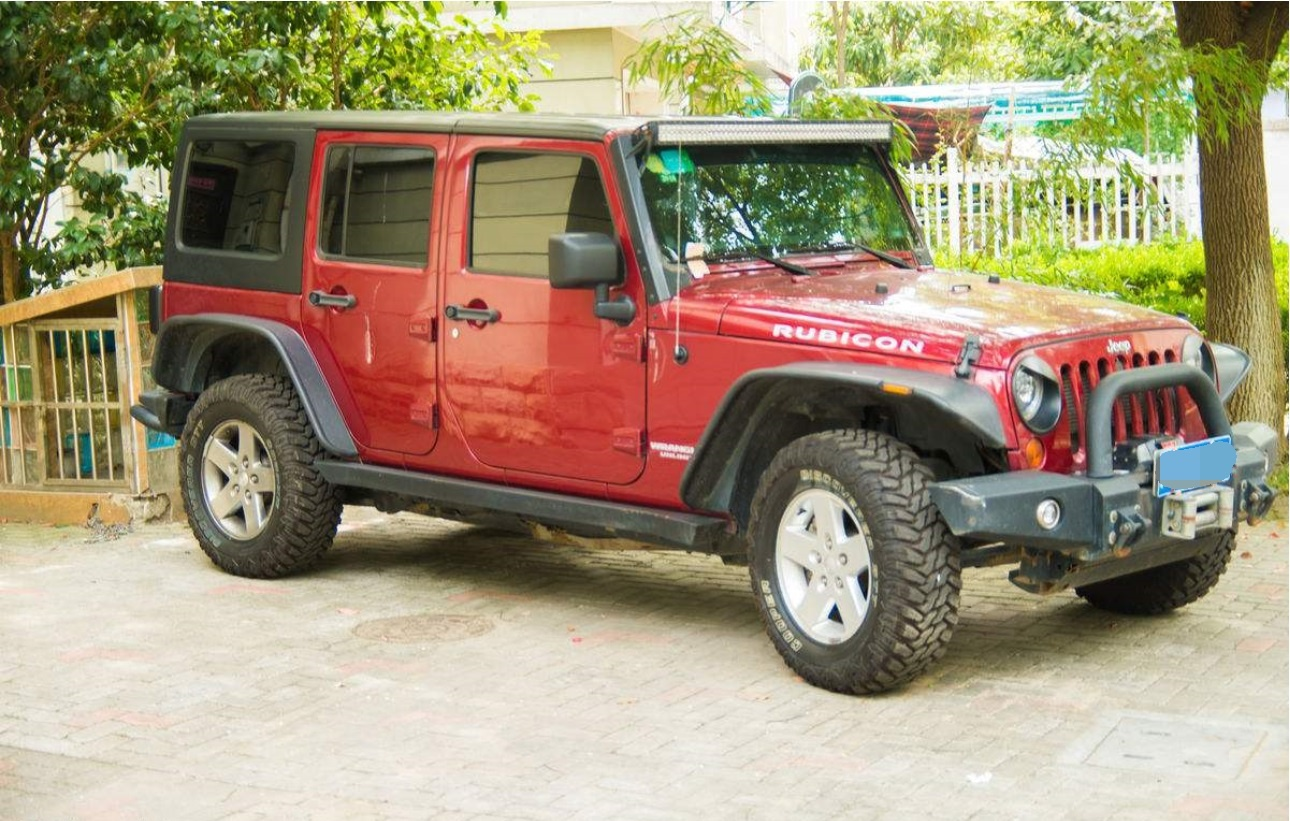jeep: (108, 61, 1248, 700)
